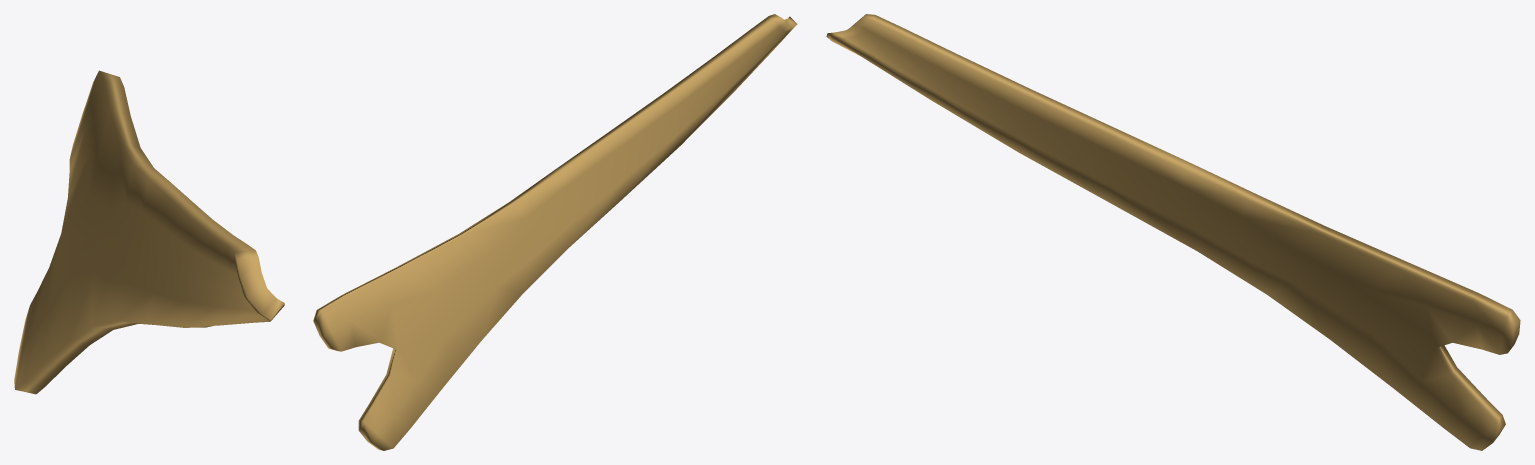
3 renders of one model, left to right at view 1: azimuth 30°, elevation 25°; view 2: azimuth 150°, elevation 25°; view 3: azimuth 270°, elevation 25°, orthographic. The views are drawn at different scales.
Parts seen in each view (by area): view 1: 左侧蝶下颌韧带; view 2: 左侧蝶下颌韧带; view 3: 左侧蝶下颌韧带.
Boxes of the visible parts, x1,y1,x2,y2 form: 左侧蝶下颌韧带: (14, 70, 284, 394); 左侧蝶下颌韧带: (313, 14, 797, 450); 左侧蝶下颌韧带: (826, 14, 1520, 450).
Size of the model in its own units: 0.0158 by 0.021 by 0.038.
